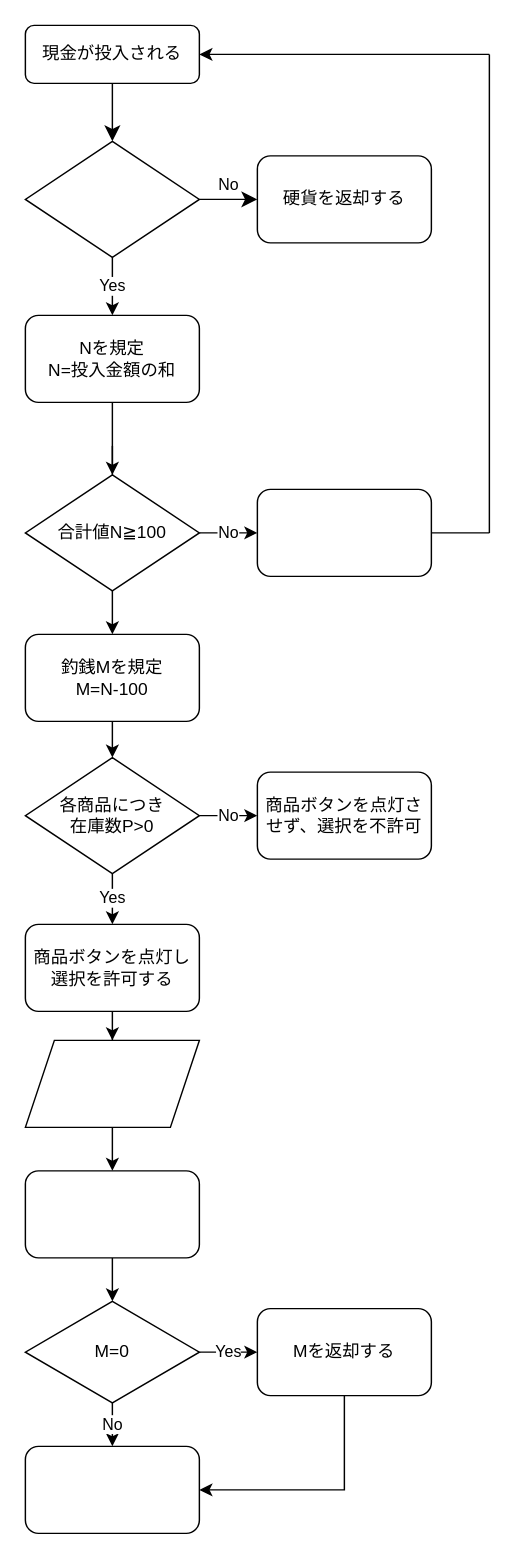
This 526x1559 diagram has some shape labels left out. Each missing label, with the box of its shape:
処理の終了: (24, 1445, 199, 1533)
待機: (256, 488, 431, 576)
適正な硬貨である: (24, 140, 199, 257)
選択された商品 の情報を取得: (24, 1039, 199, 1127)
選択された商品を 提供する: (24, 1169, 199, 1258)
